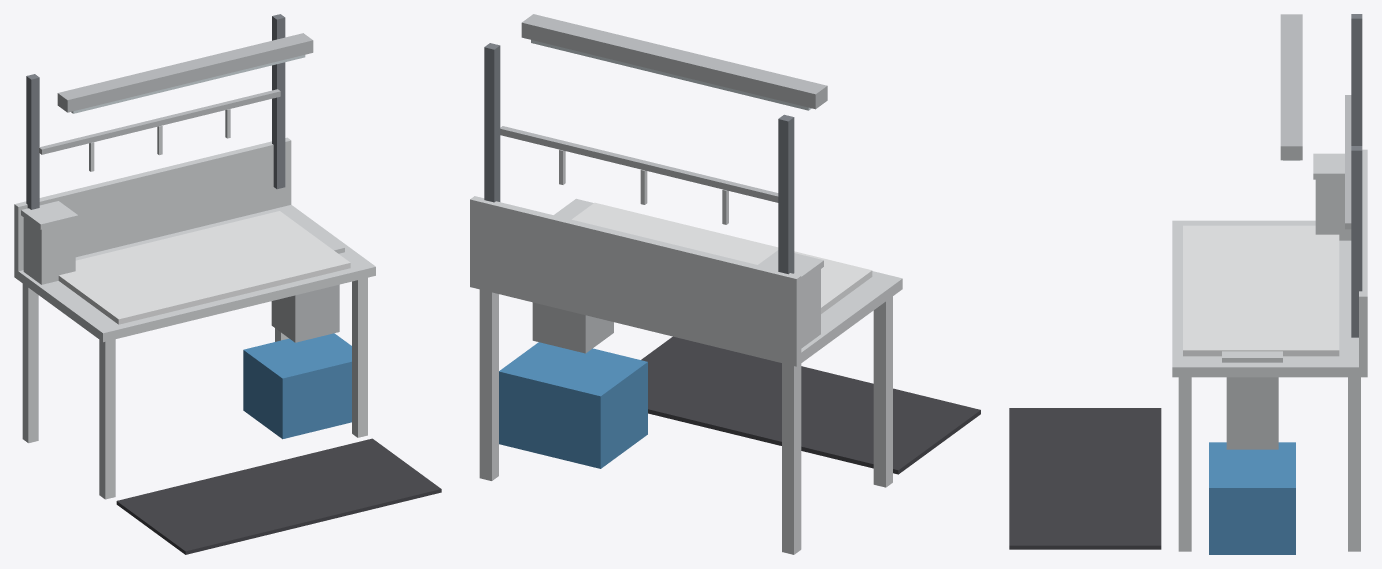
The model's file is SM_DEBONE_STATION.fbx.
3 views of the same model, side by side, from view 1: azimuth 30°, elevation 25°; view 2: azimuth 150°, elevation 25°; view 3: azimuth 270°, elevation 25° (orthographic). The views are drawn at different scales.
Parts seen in each view (by area): view 1: SM_DEBONE_STATION; view 2: SM_DEBONE_STATION; view 3: SM_DEBONE_STATION.
Part boxes in pixels (box(x1,y1,x2,y2)): SM_DEBONE_STATION: box(14, 14, 441, 554); SM_DEBONE_STATION: box(470, 14, 980, 554); SM_DEBONE_STATION: box(1009, 14, 1367, 554).
Bounding box in the file's own units: 165 × 204 × 165.
